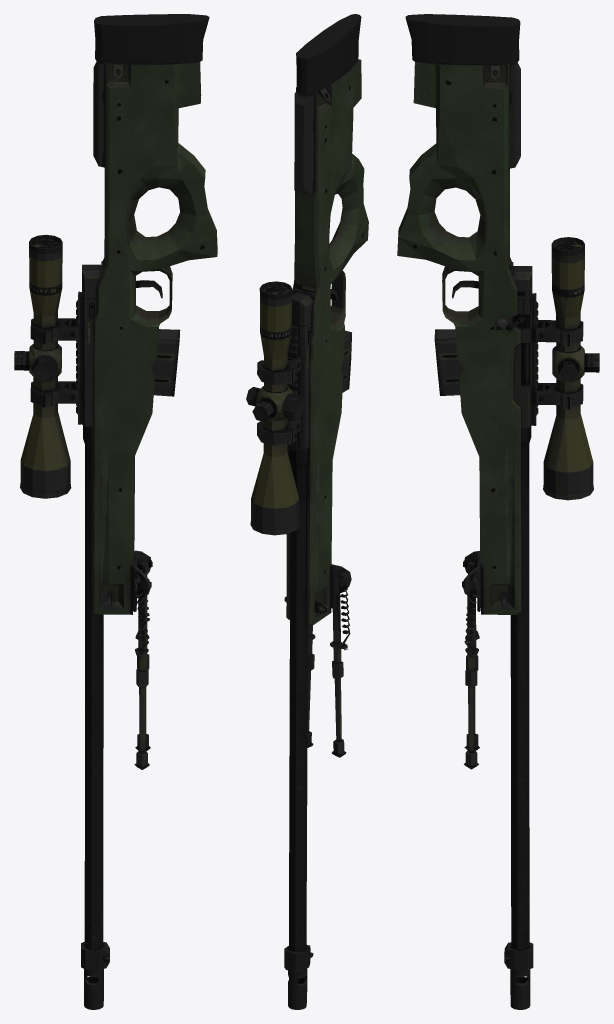
The model's file is w_snip_awp.obj.
3 views of the same model, side by side, from view 1: azimuth 90°, elevation 25°; view 2: azimuth 150°, elevation 25°; view 3: azimuth 270°, elevation 25° (orthographic). The views are drawn at different scales.
Size of the model in its own units: 0.0442 by 0.5431 by 0.1011.
1 material, 1 textured.
